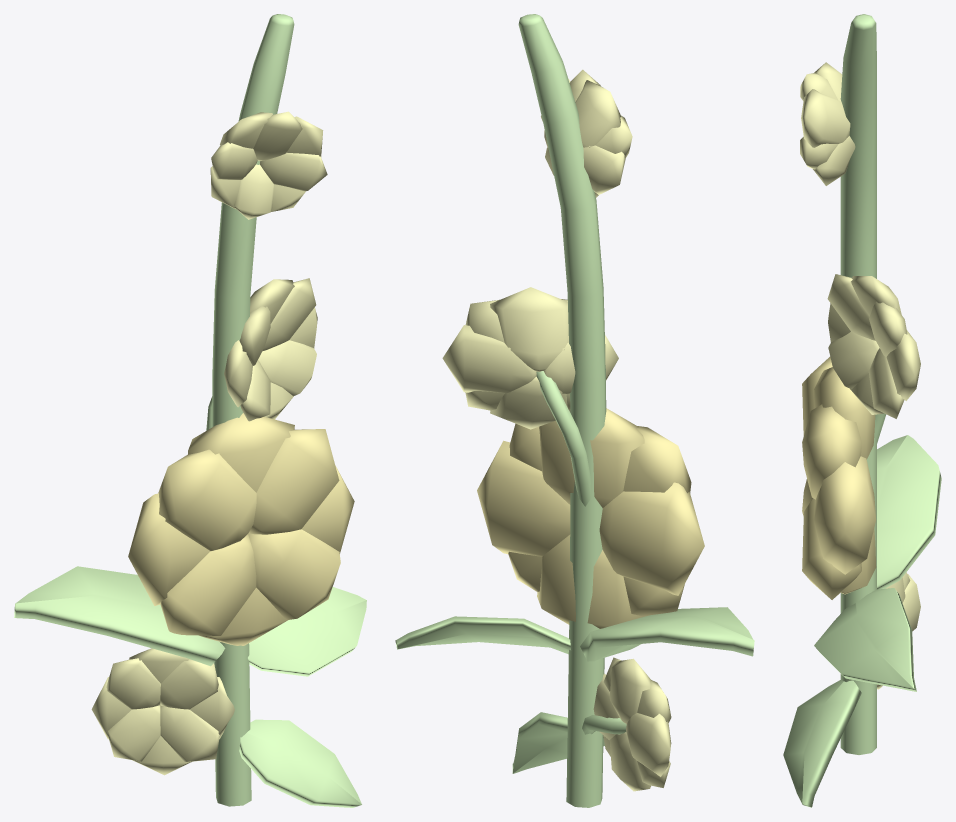
The model's file is Flower4_UV.fbx.
3 views of the same model, side by side, from view 1: azimuth 30°, elevation 25°; view 2: azimuth 150°, elevation 25°; view 3: azimuth 270°, elevation 25° (orthographic). The views are drawn at different scales.
Visible parts, largest first — view 1: Flower4_UV; view 2: Flower4_UV; view 3: Flower4_UV.
Part boxes in pixels (x1,y1,x2,y2): Flower4_UV: [14, 14, 366, 807]; Flower4_UV: [395, 14, 754, 807]; Flower4_UV: [783, 14, 941, 807].
Bounding box in the file's own units: 1.33 × 2.8 × 0.5233.
